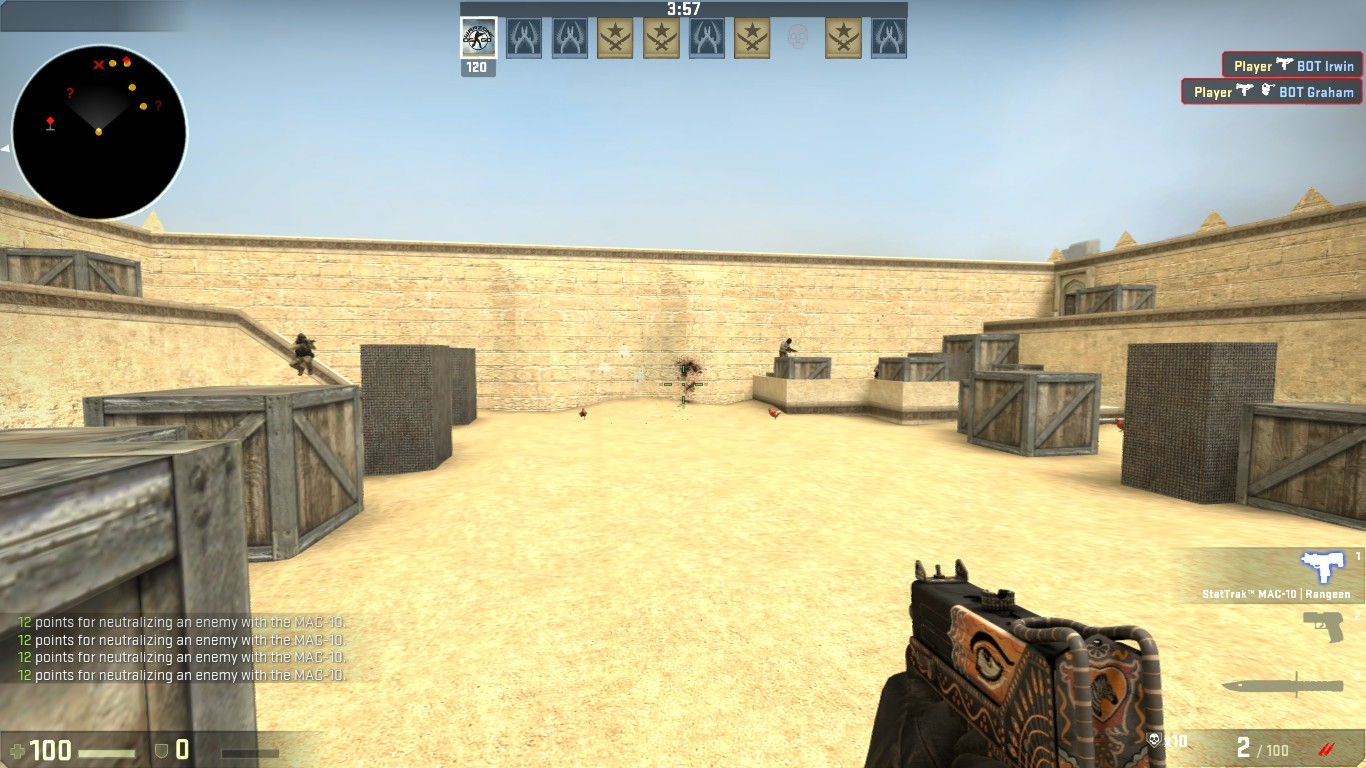c: (290, 332, 317, 378)
ch: (298, 334, 308, 343)
t: (777, 336, 795, 358)
th: (785, 337, 794, 345)
